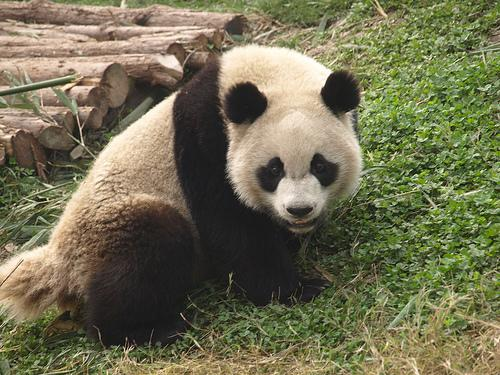panda: (0, 45, 361, 345)
